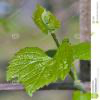grape leaf: (1, 42, 74, 97)
